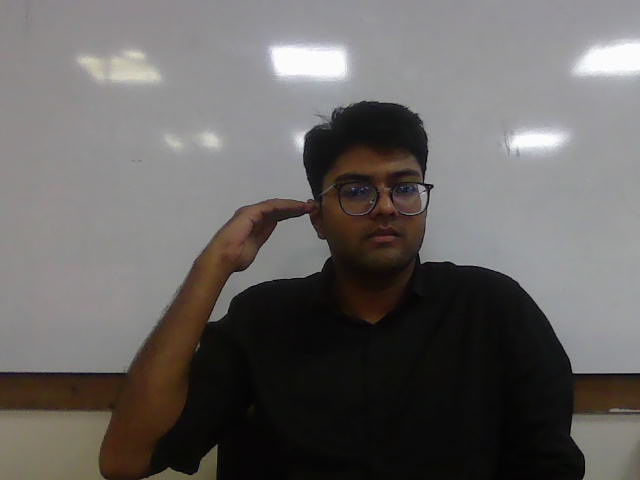Prottibondhi: (217, 197, 317, 274)
